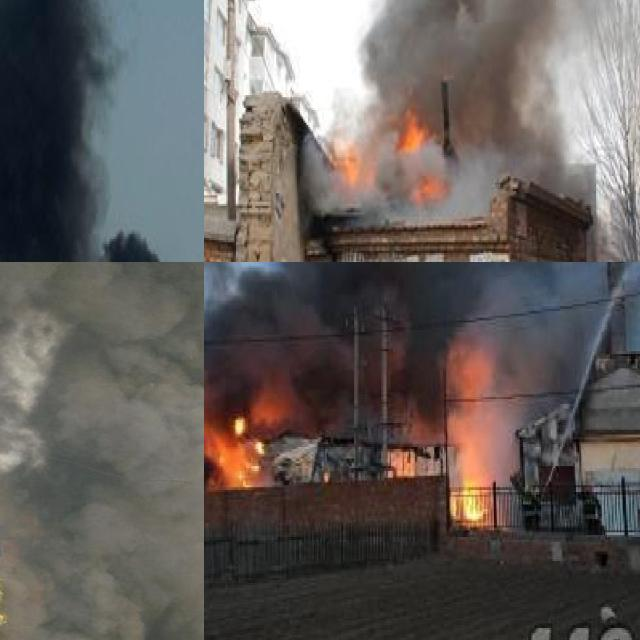fire: (319, 110, 444, 219), (204, 416, 263, 492), (453, 469, 489, 524), (388, 447, 414, 475)
smoke: (204, 262, 640, 452), (0, 262, 204, 640), (302, 0, 619, 215), (0, 0, 193, 262)
